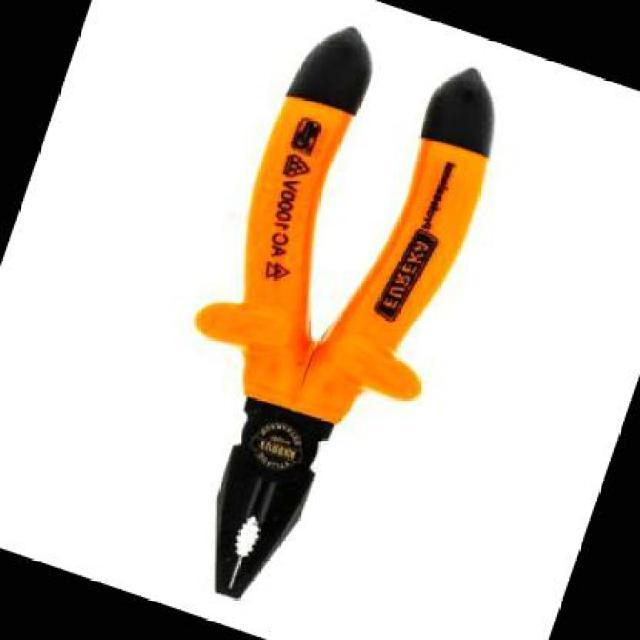pliers: (89, 0, 541, 638)
